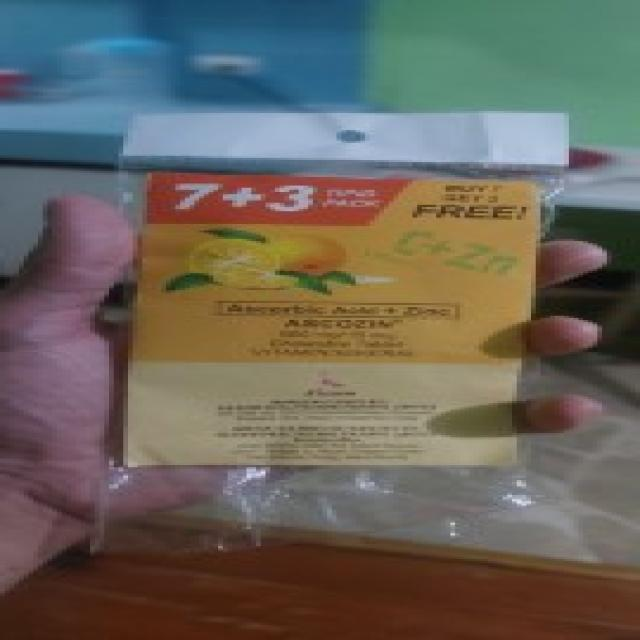Cacat: (123, 110, 576, 557)
